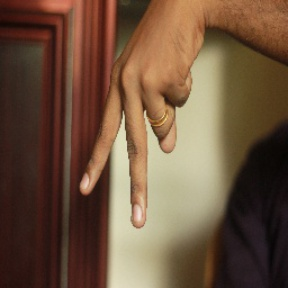Y: (78, 46, 190, 228)
